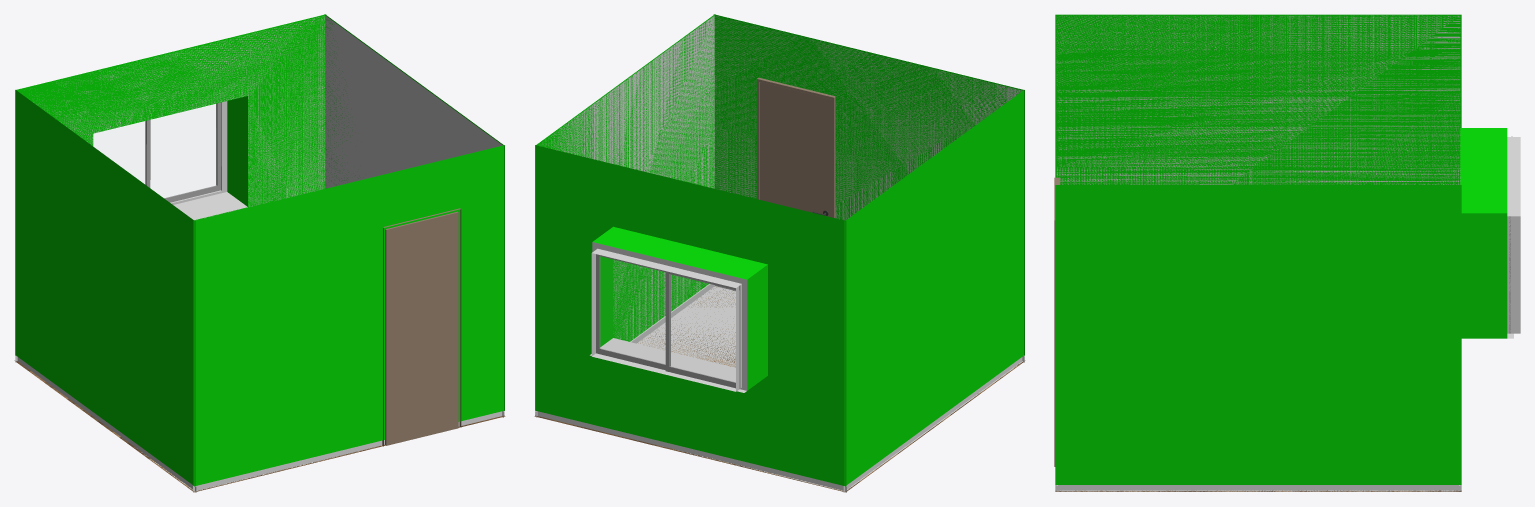
3 renders of one model, left to right at view 1: azimuth 30°, elevation 25°; view 2: azimuth 150°, elevation 25°; view 3: azimuth 270°, elevation 25°, orthographic. The views are drawn at different scales.
Visible parts, largest first — view 1: __300_WALL__.001, __300_WALL__ (×2), __300_WALL_DEMADO__, Door, __ROOM_WALL__wall, __ROOM_WALL__wall.001, Window, __DOOR__, __300_FLOOR__; view 2: __300_WALL_DEMADO__, __300_WALL__ (×2), __300_WALL__.001, __ROOM_WALL__wall.002, __ROOM_WALL__wall, Door, __ROOM_FLOOR__floor, Window, __300_FLOOR__, __DOOR__; view 3: __300_WALL__ (×2), __ROOM_WALL__wall, __300_WALL_DEMADO__, __DOOR__, __ROOM_FLOOR__floor.
Boxes of the visible parts, box(x1,y1,x2,y2) form: __300_WALL__.001: box(193, 145, 504, 492); __300_WALL__ (×2): box(16, 14, 504, 492); __300_WALL_DEMADO__: box(15, 14, 326, 362); Door: box(385, 211, 458, 445); __ROOM_WALL__wall: box(325, 15, 502, 188); __ROOM_WALL__wall.001: box(32, 16, 325, 219); Window: box(145, 102, 221, 202); __DOOR__: box(382, 208, 461, 446); __300_FLOOR__: box(14, 360, 505, 492); __300_WALL_DEMADO__: box(535, 145, 846, 492); __300_WALL__ (×2): box(535, 14, 1023, 492); __300_WALL__.001: box(713, 14, 1024, 362); __ROOM_WALL__wall.002: box(714, 16, 1022, 290); __ROOM_WALL__wall: box(542, 15, 714, 342); Door: box(760, 82, 831, 217); __ROOM_FLOOR__floor: box(637, 286, 1022, 491); Window: box(596, 254, 740, 388); __300_FLOOR__: box(534, 287, 1025, 492); __DOOR__: box(757, 77, 835, 218); __300_WALL__ (×2): box(1055, 14, 1461, 491); __ROOM_WALL__wall: box(1056, 15, 1460, 184); __300_WALL_DEMADO__: box(1459, 128, 1520, 485); __DOOR__: box(1054, 177, 1060, 466); __ROOM_FLOOR__floor: box(1057, 490, 1459, 491).
Size of the model in its own units: 3.02 by 2.52 by 3.47.
Materials: 7 (1 with a texture image).
